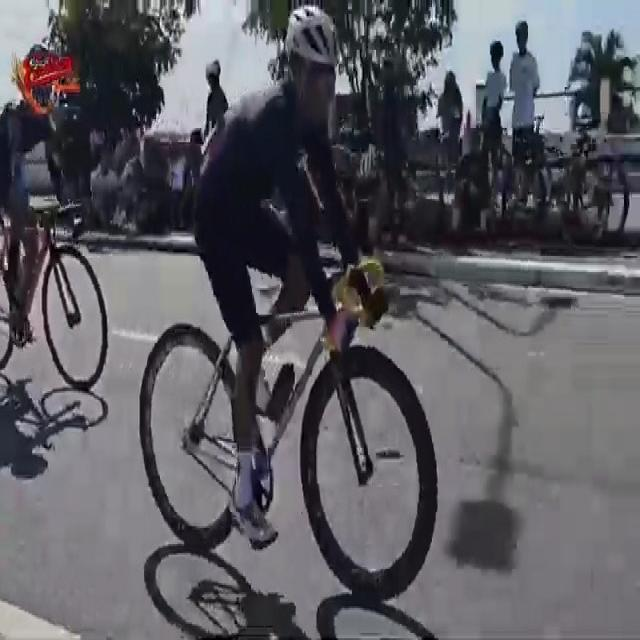bike: (133, 0, 440, 609), (0, 115, 109, 409)
